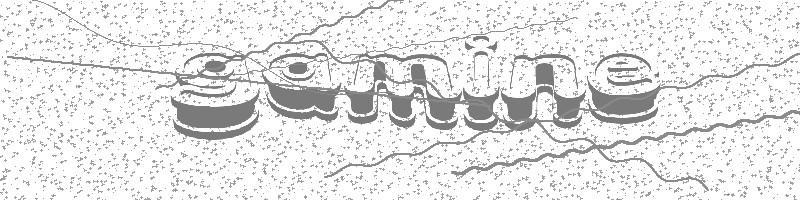a: (261, 50, 341, 122)
e: (583, 51, 661, 124)
g: (168, 51, 261, 141)
i: (461, 32, 501, 135)
m: (342, 49, 460, 130)
n: (498, 49, 585, 131)
